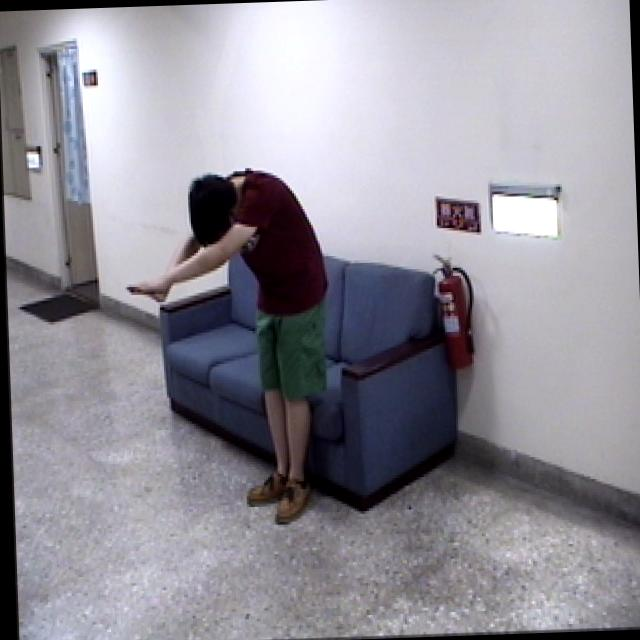bend: (117, 162, 342, 536)
